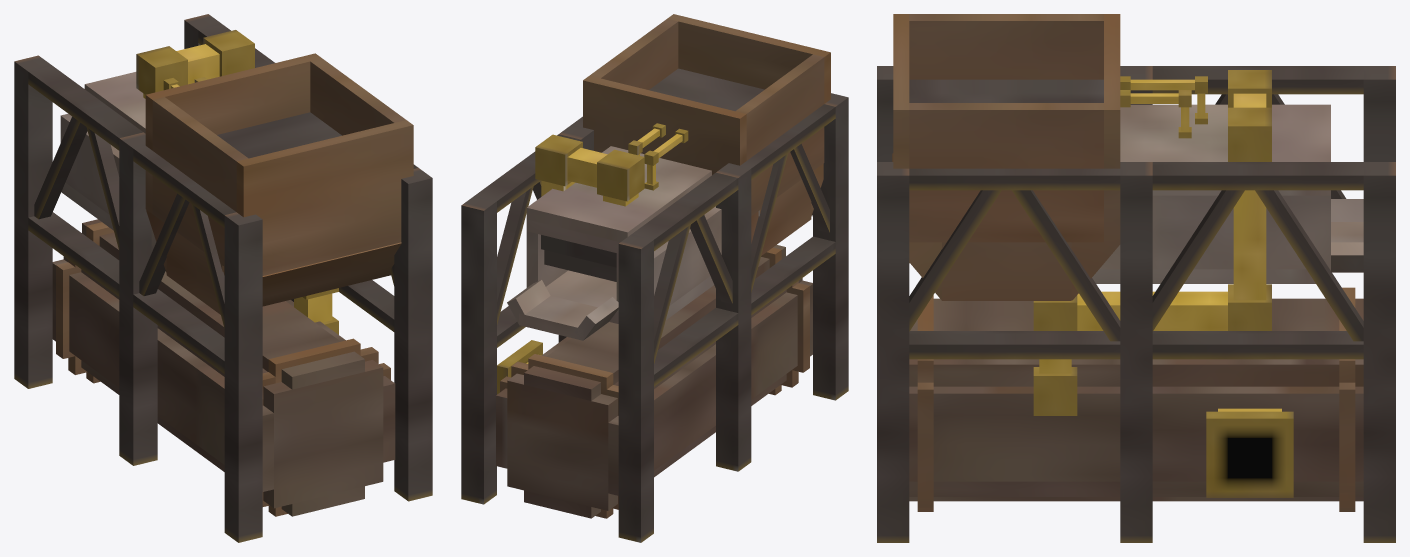
Rendered from sorting_machine.obj.
The picture shows the model from 3 angles, left to right: view 1: azimuth 30°, elevation 25°; view 2: azimuth 150°, elevation 25°; view 3: azimuth 270°, elevation 25°; orthographic projection. The views are drawn at different scales.
Parts seen in each view (by area): view 1: hooper4, tank0, pillar20, pillar0, tank3, pillar11, pillar21, hooper5, hooper7, tank1, hooper3, hooper1 (+24 smaller); view 2: tank0, pillar11, pillar2, tank3, hooper5, pillar21, pillar20, core2, hooper4, hooper7, tank1, hooper1 (+31 smaller); view 3: tank2, hooper1, tank0, hooper7, pillar1, pillar2, pillar0, core2, core0, pipe1, hooper0, pillar4 (+34 smaller).
Boxes of the visible parts, x1=… form: hooper4: x1=236, y1=120, x2=413, y2=275; tank0: x1=63, y1=256, x2=383, y2=508; pillar20: x1=224, y1=212, x2=262, y2=542; pillar0: x1=394, y1=168, x2=432, y2=501; tank3: x1=52, y1=259, x2=273, y2=491; pillar11: x1=14, y1=55, x2=52, y2=388; pillar21: x1=119, y1=132, x2=157, y2=465; hooper5: x1=145, y1=53, x2=321, y2=213; hooper7: x1=152, y1=97, x2=248, y2=266; tank1: x1=82, y1=219, x2=364, y2=389; hooper3: x1=223, y1=242, x2=401, y2=306; hooper1: x1=310, y1=58, x2=405, y2=135; tank0: x1=507, y1=278, x2=802, y2=510; pillar11: x1=618, y1=234, x2=653, y2=542; pillar2: x1=461, y1=196, x2=496, y2=504; tank3: x1=608, y1=280, x2=812, y2=495; hooper5: x1=583, y1=75, x2=746, y2=174; pillar21: x1=716, y1=163, x2=751, y2=471; pillar20: x1=813, y1=93, x2=848, y2=400; core2: x1=526, y1=146, x2=711, y2=242; hooper4: x1=667, y1=14, x2=830, y2=103; hooper7: x1=736, y1=54, x2=824, y2=215; tank1: x1=524, y1=245, x2=785, y2=400; hooper1: x1=590, y1=18, x2=678, y2=89; tank2: x1=909, y1=386, x2=1363, y2=481; hooper1: x1=909, y1=103, x2=1103, y2=242; tank0: x1=909, y1=359, x2=1363, y2=496; hooper7: x1=909, y1=14, x2=1103, y2=79; pillar1: x1=1120, y1=162, x2=1152, y2=542; pillar2: x1=1363, y1=162, x2=1395, y2=542; pillar0: x1=877, y1=162, x2=909, y2=542; core2: x1=1120, y1=104, x2=1330, y2=161; core0: x1=1099, y1=195, x2=1330, y2=269; pipe1: x1=1206, y1=411, x2=1293, y2=497; hooper0: x1=942, y1=242, x2=1071, y2=300; pillar4: x1=1152, y1=162, x2=1363, y2=190.
Size of the model in its own units: 1.03 by 1.81 by 2.
